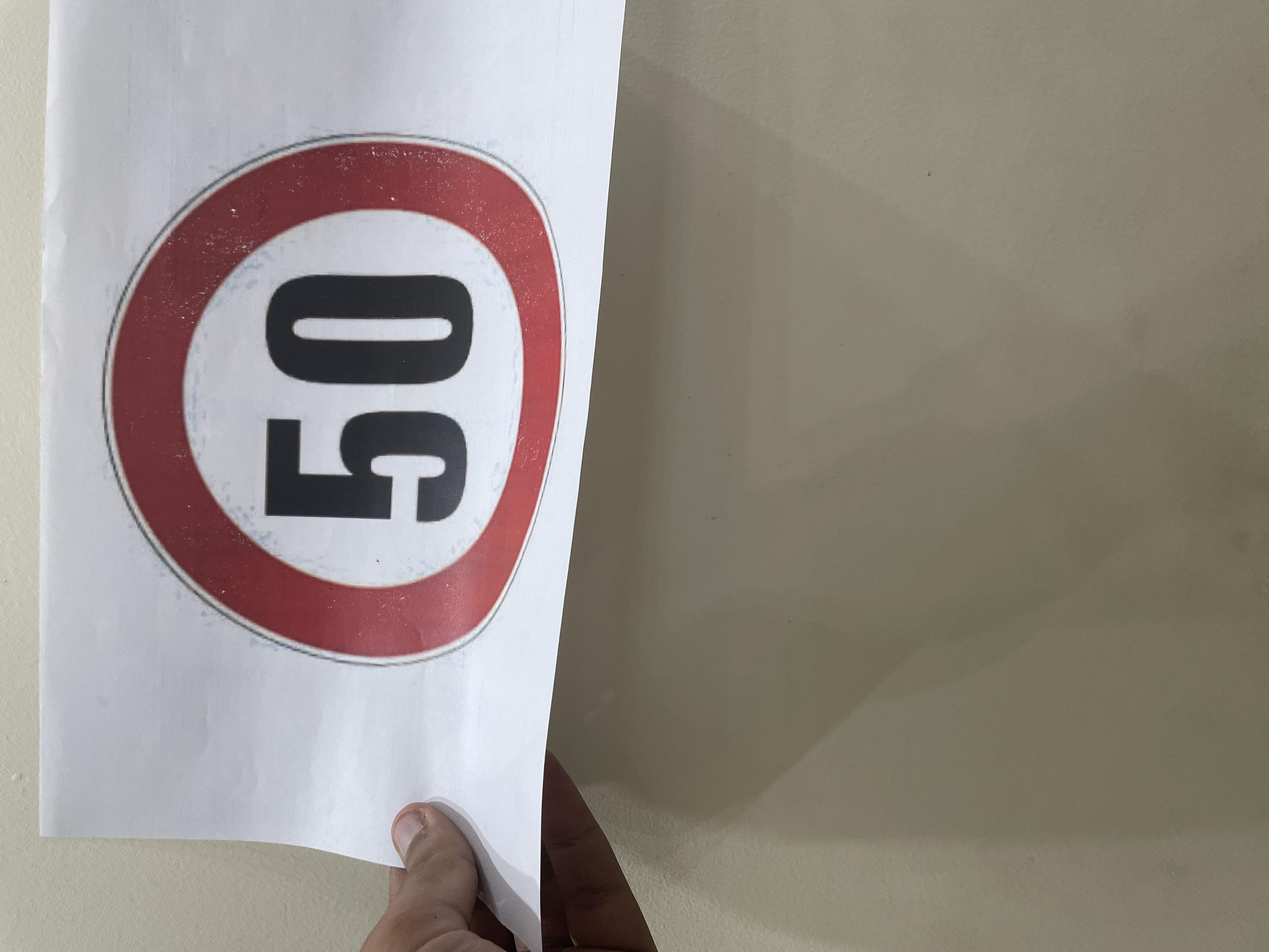50-Speed: (395, 78, 1113, 436)
